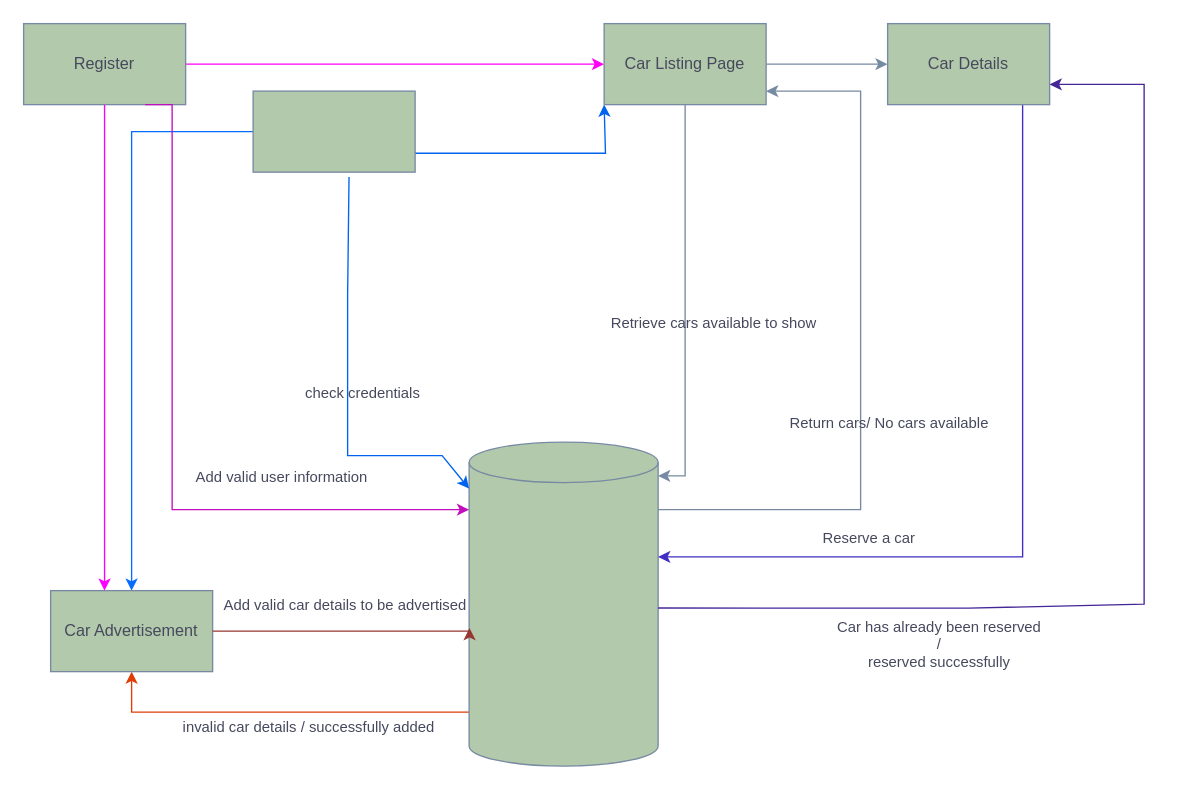
Image size: 1179x790. Some labels were removed from this diagram. The centre of each missing label's shape, as x and y in pixels:
"Database" goes at (563,603).
"Login" goes at (333,131).
